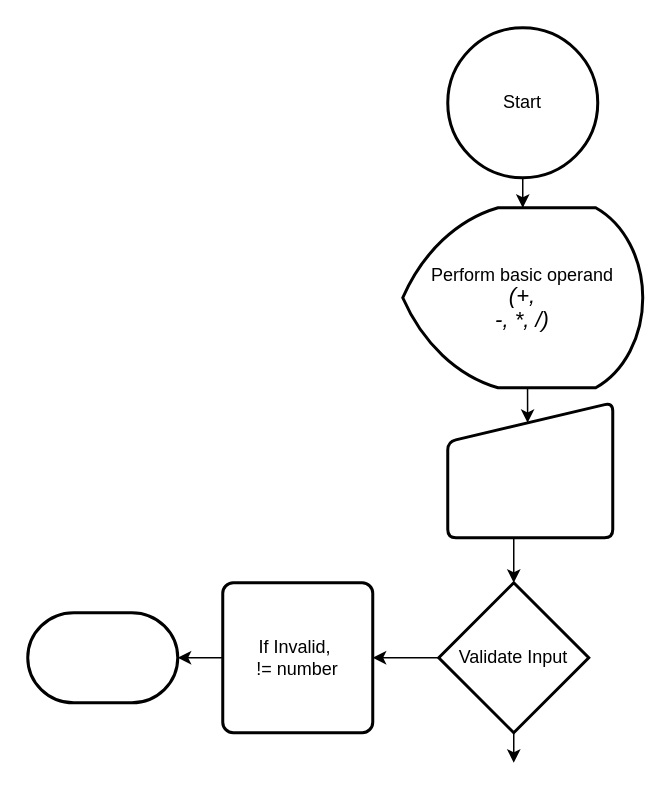
Image size: 669x801. Some labels were removed from this diagram. The centre of each missing label's shape, as x and y in pixels:
Back to Start: (102,657)
User Input - First Number: (530,469)
